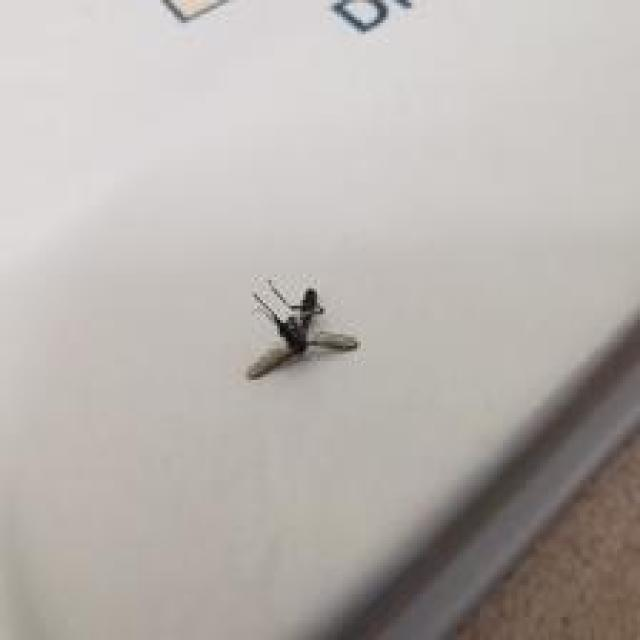Aedes albopictus: (243, 277, 360, 380)
